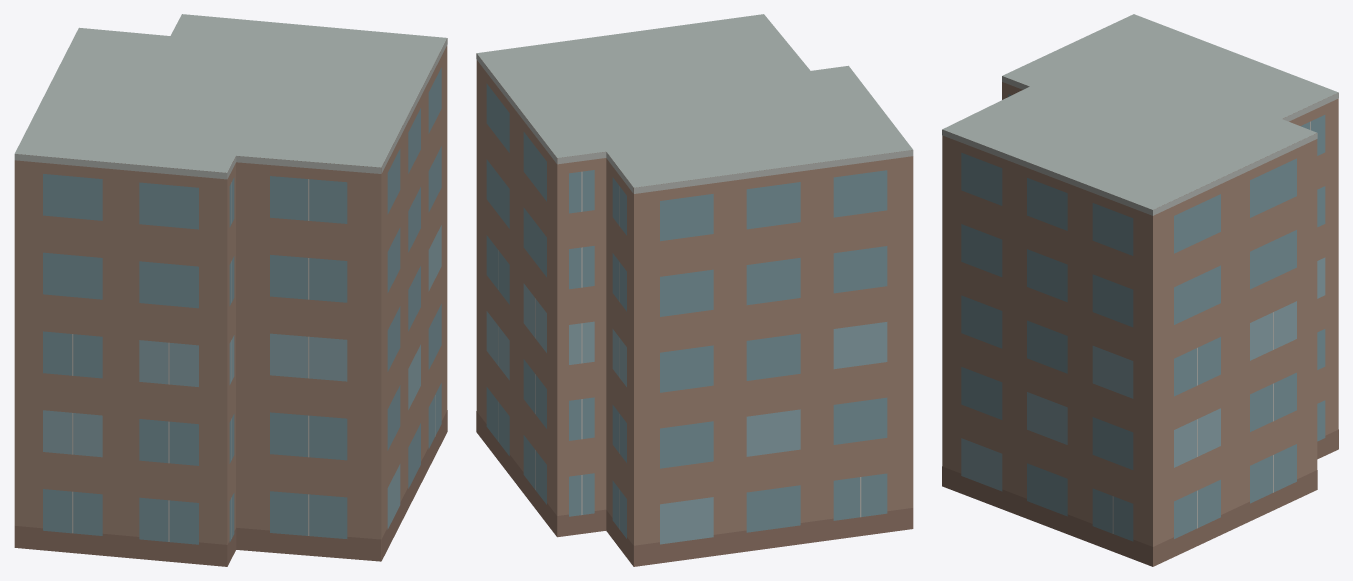
File: survey-upis-32980138.glb
The picture shows the model from 3 angles, left to right: view 1: azimuth 30°, elevation 25°; view 2: azimuth 150°, elevation 25°; view 3: azimuth 270°, elevation 25°; orthographic projection. The views are drawn at different scales.
Parts seen in each view (by area): view 1: survey-upis-32980138.tmp; view 2: survey-upis-32980138.tmp; view 3: survey-upis-32980138.tmp.
Boxes of the visible parts, bbox=[...] form: survey-upis-32980138.tmp: bbox=[14, 14, 447, 566]; survey-upis-32980138.tmp: bbox=[476, 14, 913, 566]; survey-upis-32980138.tmp: bbox=[942, 14, 1338, 566].
Size of the model in its own units: 17.32 by 14.7 by 14.81.
